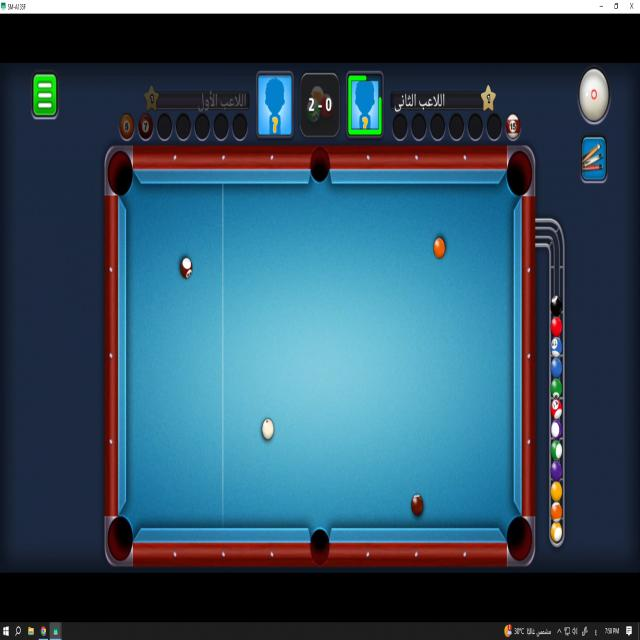object_ball: (181, 258, 192, 279), (412, 495, 423, 515), (434, 238, 444, 258)
white_cue_ball: (262, 418, 274, 441)
